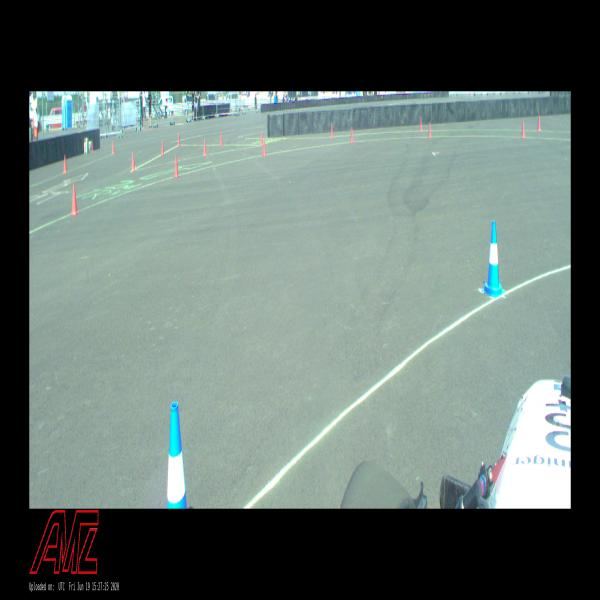blue_cone: (167, 402, 188, 508), (482, 221, 504, 299)
